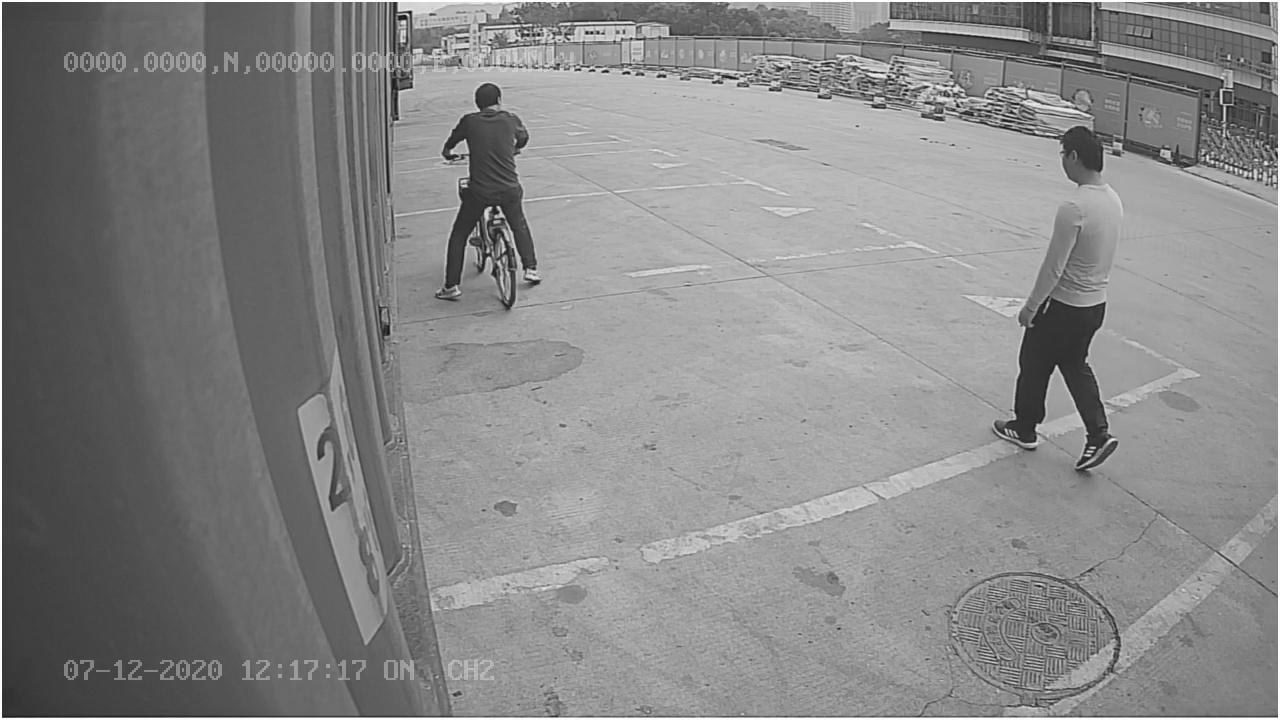person: (991, 122, 1130, 473)
